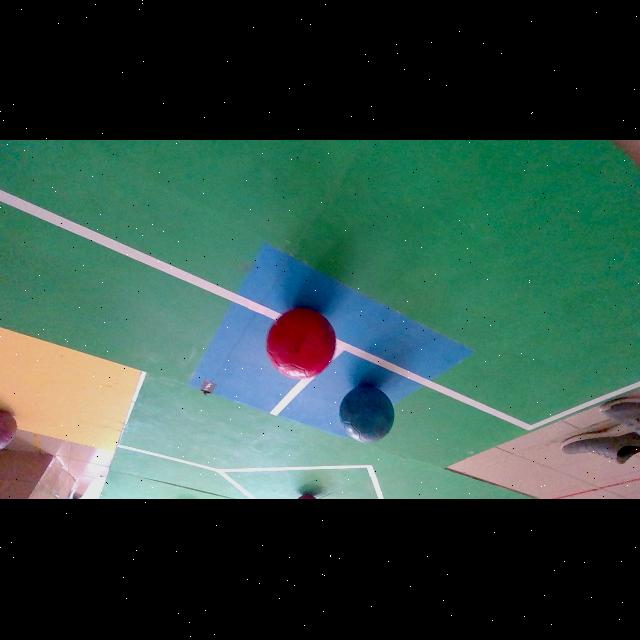B: (341, 386, 394, 443)
P: (0, 411, 17, 451)
R: (266, 309, 335, 380)
